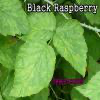Raspberry leaf: (9, 38, 55, 97), (52, 17, 86, 78), (0, 1, 31, 35), (17, 13, 55, 38)
